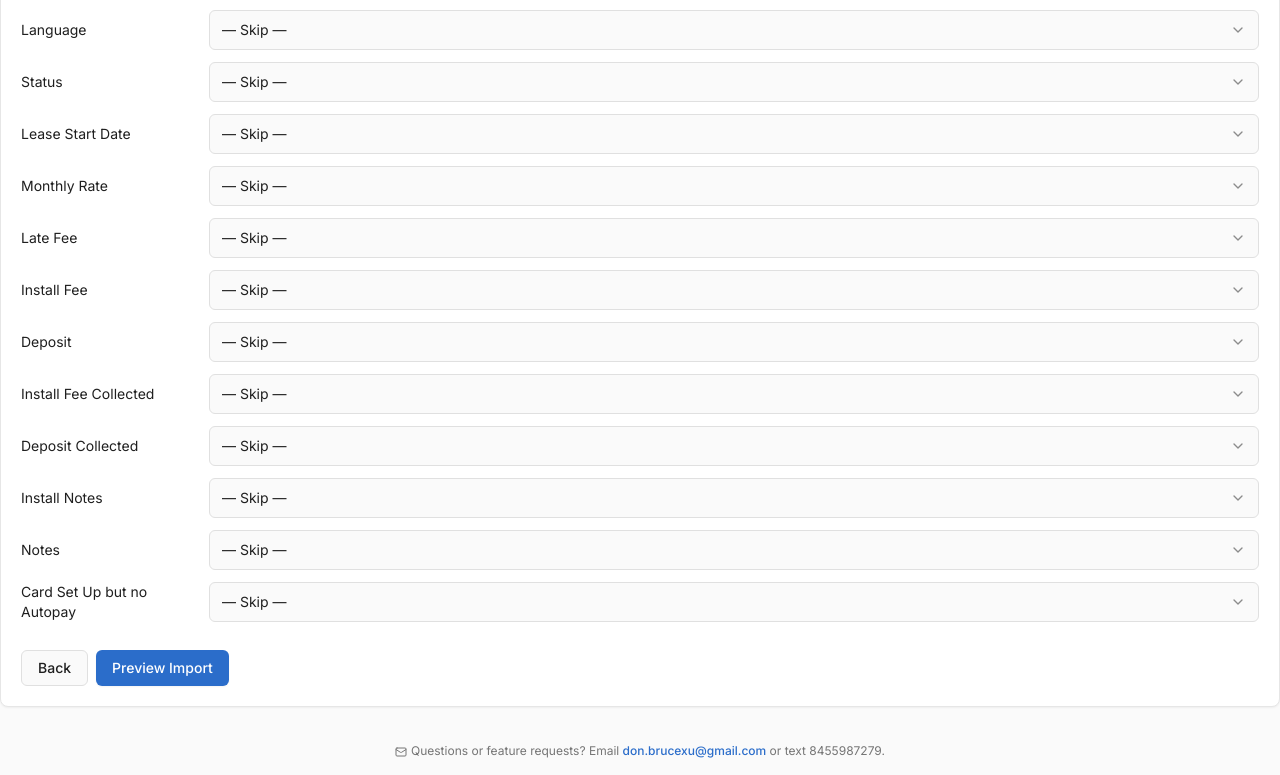
ImportPage › toggles remove and undo in preview
Earlier steps of the test are not shown.
Later steps or results of the test are not shown.
(page scrolled)
Click the button "Preview Import" at (162, 668), box 96,650 -> 229,686
(page scrolled)
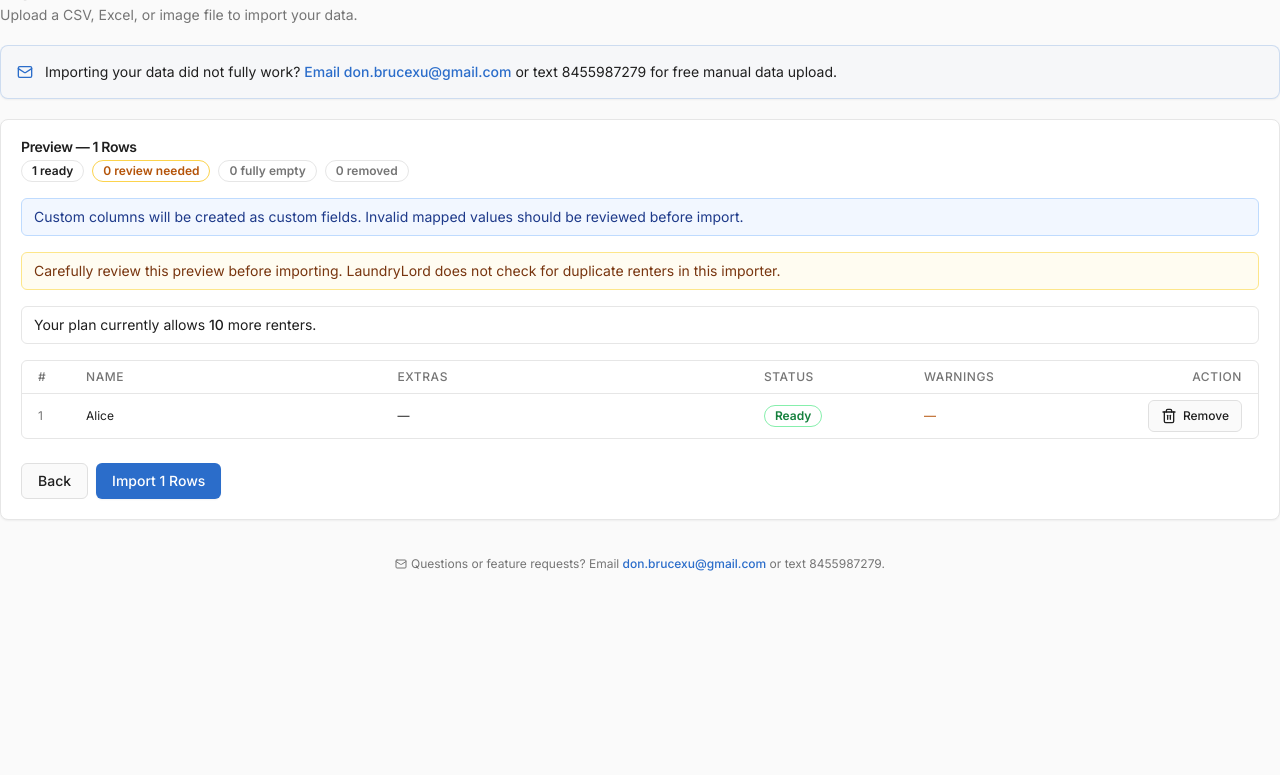
Expected: the text "Alice" is shown, 70,393 -> 381,438
Click the button "Remove" at (1195, 416), box 1148,400 -> 1242,432
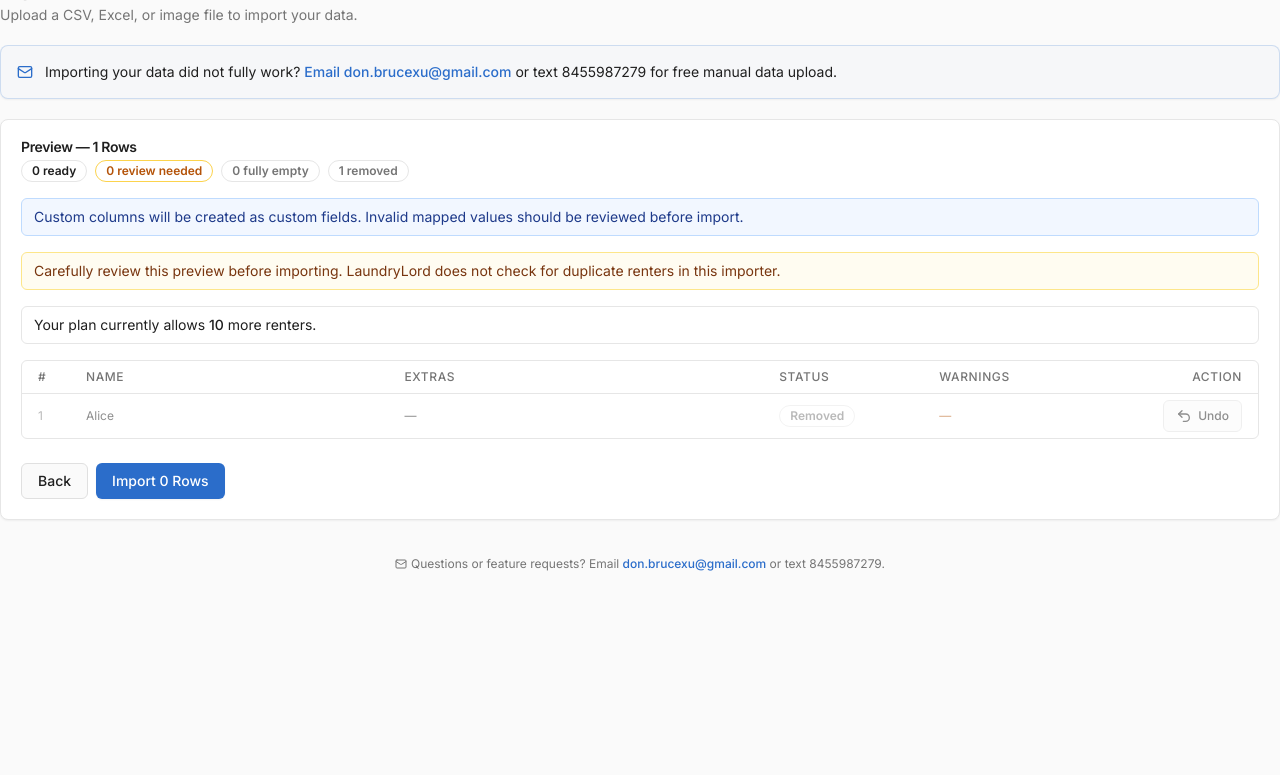
Expected: the text "Removed" is shown, 779,404 -> 855,426
Expected: the button "Undo" is shown
Click the button "Undo" at (1203, 416), box 1163,400 -> 1242,432
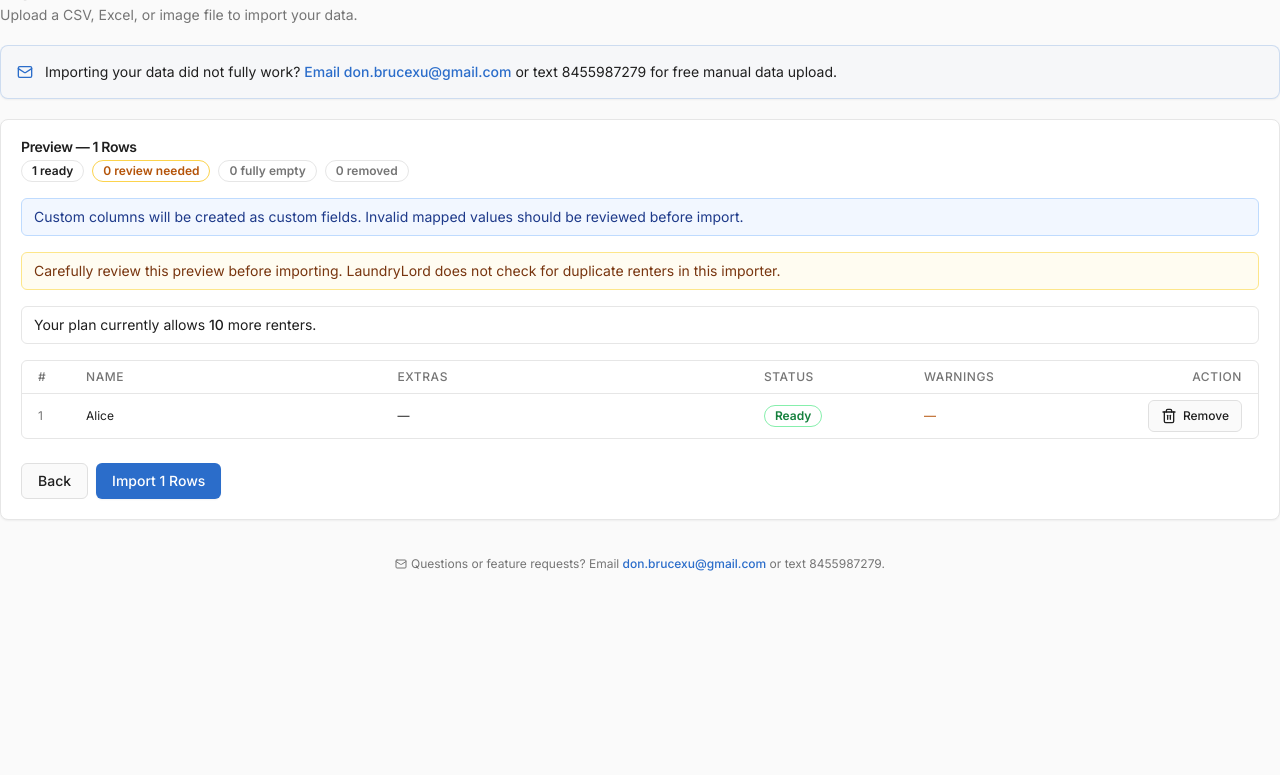
Expected: the text "Ready" is shown, 764,404 -> 822,426
